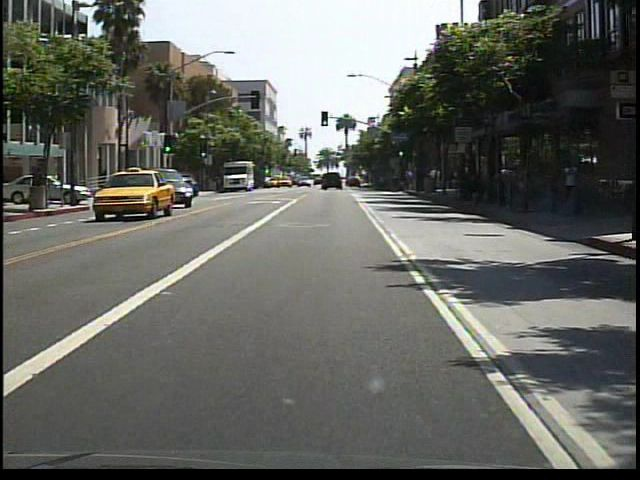person: (560, 155, 584, 192)
